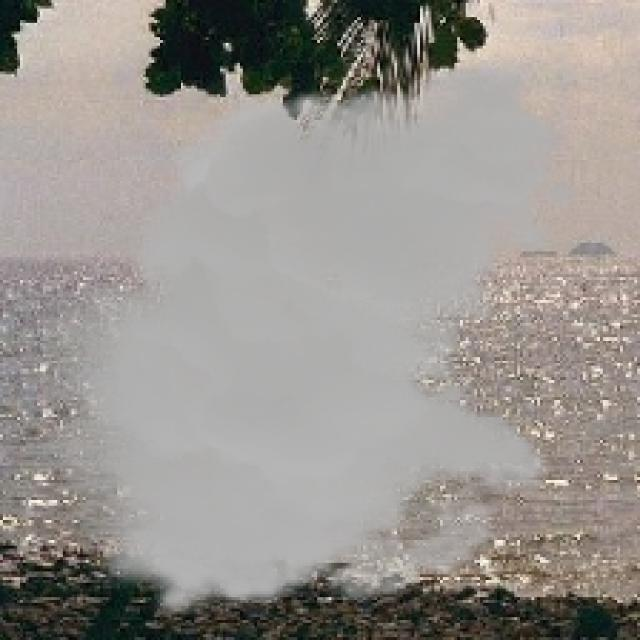smoke: (26, 63, 586, 620)
